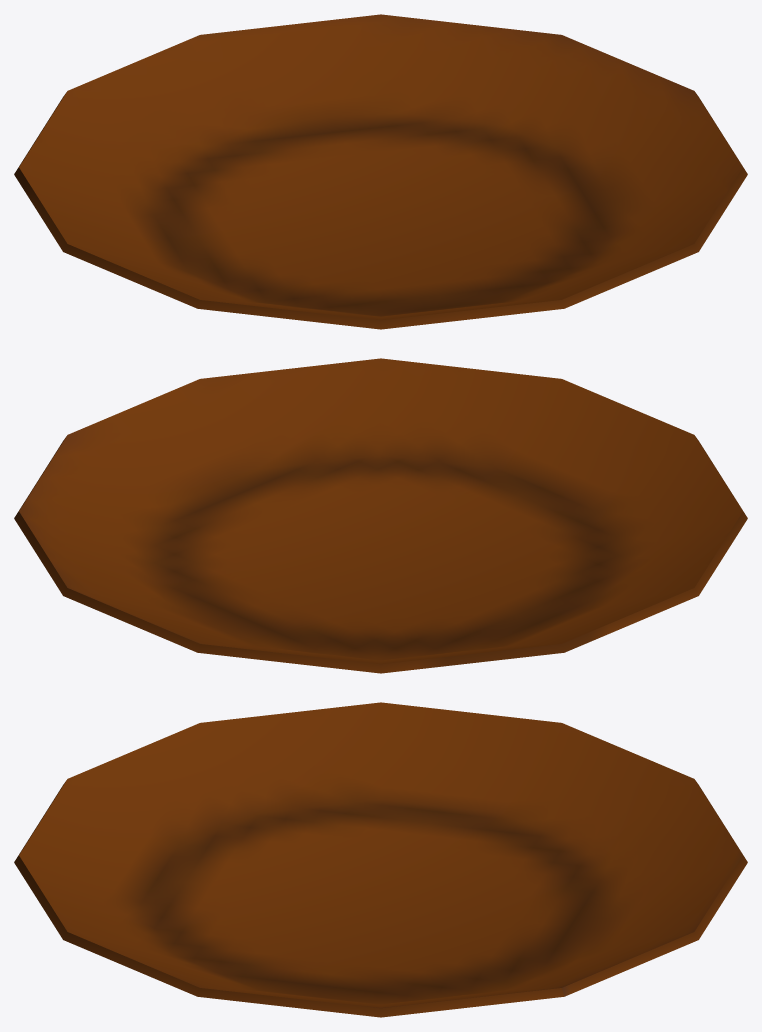
Rendered from Plate.FBX.
The picture shows the model from 3 angles, top to bottom: view 1: azimuth 30°, elevation 25°; view 2: azimuth 150°, elevation 25°; view 3: azimuth 270°, elevation 25°; orthographic projection.
Visible parts, largest first — view 1: Plate; view 2: Plate; view 3: Plate.
Boxes of the visible parts, x1,y1,x2,y2 form: Plate: (14, 14, 747, 329); Plate: (14, 358, 747, 673); Plate: (14, 702, 747, 1017).
Bounding box in the file's own units: 0.7831 × 0.0637 × 0.7831.
